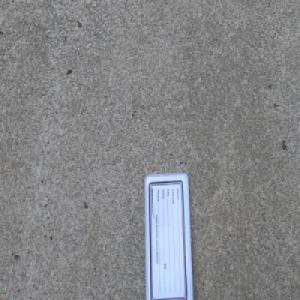LuggageTag: (142, 169, 194, 300)
